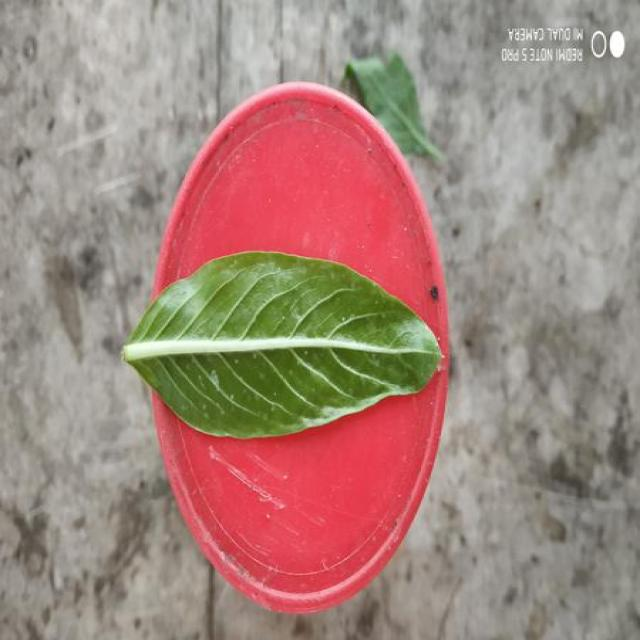catharanthus: (123, 251, 438, 438)
